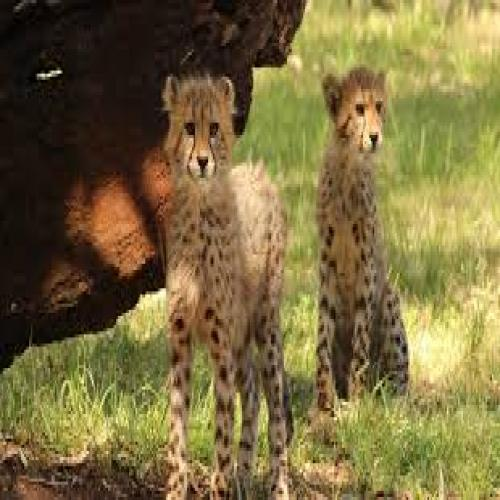cheetah-endangered: (164, 70, 291, 500), (314, 62, 410, 407)
